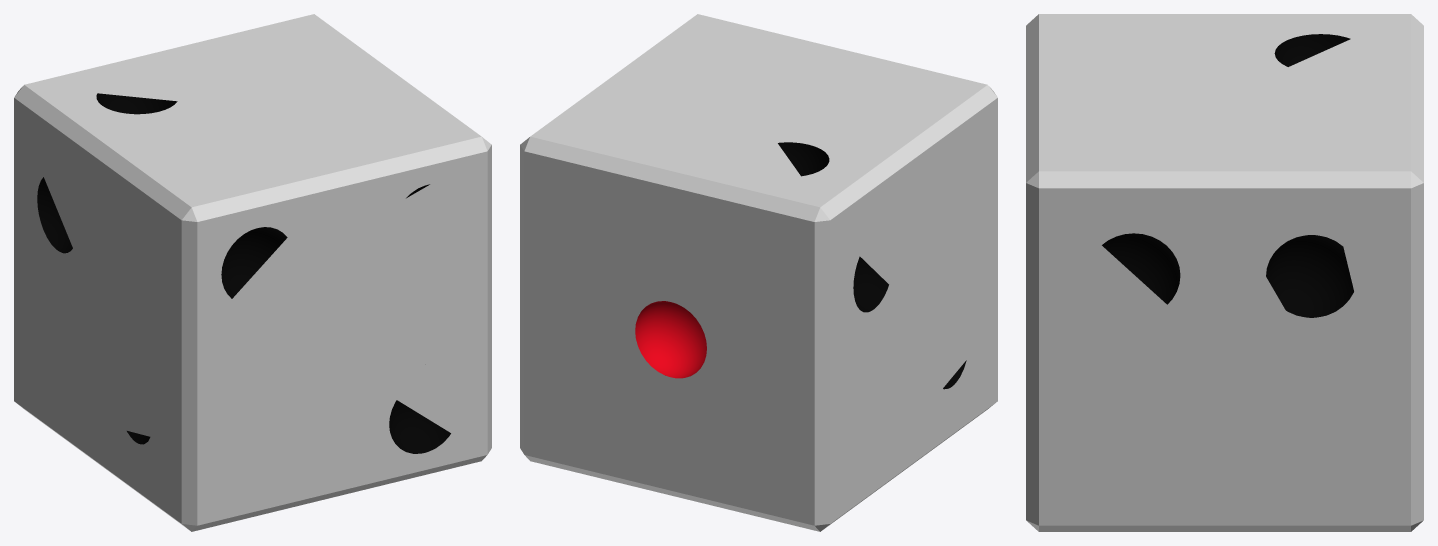
Rendered from dice.fbx.
3 views of the same model, side by side, from view 1: azimuth 30°, elevation 25°; view 2: azimuth 150°, elevation 25°; view 3: azimuth 270°, elevation 25° (orthographic). The views are drawn at different scales.
Visible parts, largest first — view 1: Cube; view 2: Cube; view 3: Cube.
Part boxes in pixels (x1,y1,x2,y2): Cube: [14, 14, 491, 531]; Cube: [520, 14, 997, 531]; Cube: [1026, 14, 1423, 531].
Size of the model in its own units: 200 by 200 by 200.
